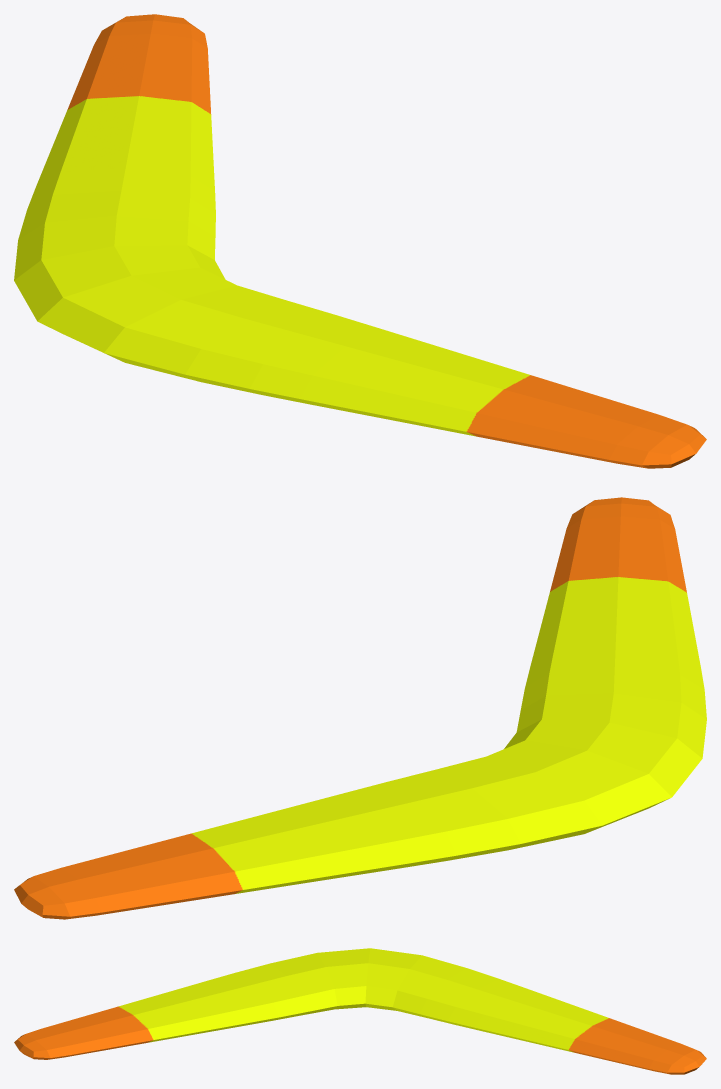
File: coleBoomerang.fbx
The picture shows the model from 3 angles, top to bottom: view 1: azimuth 30°, elevation 25°; view 2: azimuth 150°, elevation 25°; view 3: azimuth 270°, elevation 25°; orthographic projection. The views are drawn at different scales.
Visible parts, largest first — view 1: Cube; view 2: Cube; view 3: Cube.
Boxes of the visible parts, box(x1,y1,x2,y2) form: Cube: box(14, 14, 706, 468); Cube: box(14, 497, 706, 919); Cube: box(14, 948, 706, 1074).
Size of the model in its own units: 255 by 624 by 28.92.
